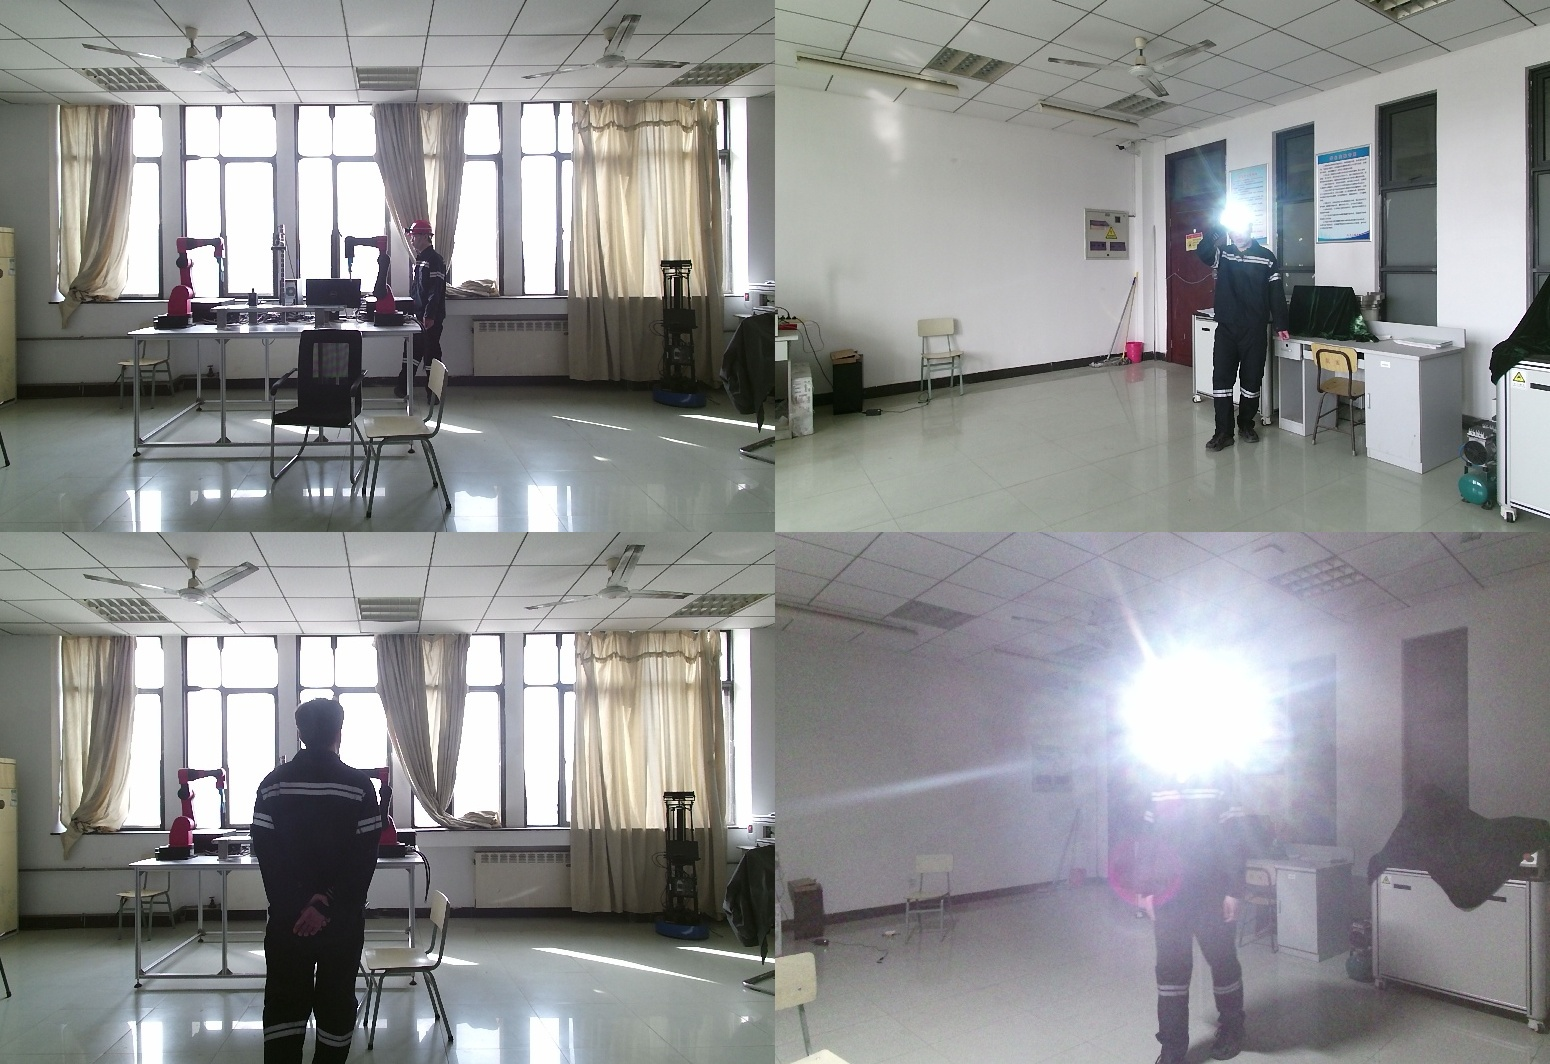person: (249, 699, 398, 1064), (1145, 705, 1274, 1064), (1199, 210, 1298, 448), (398, 220, 453, 402)
